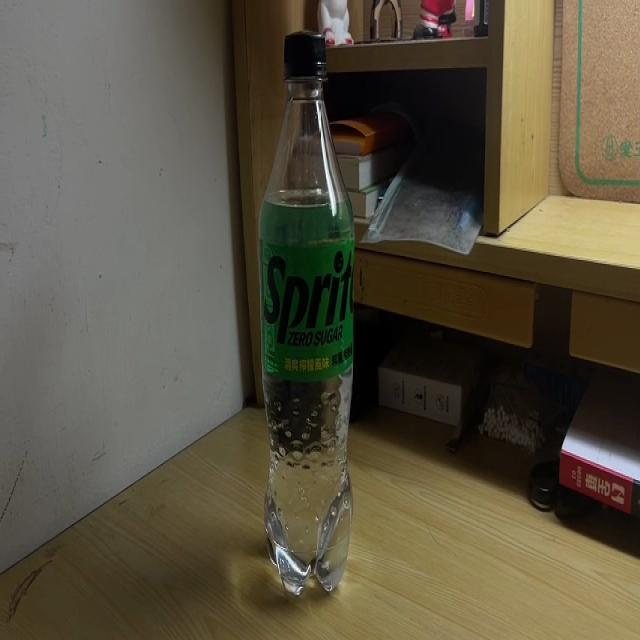Sprite: (258, 32, 356, 600)
